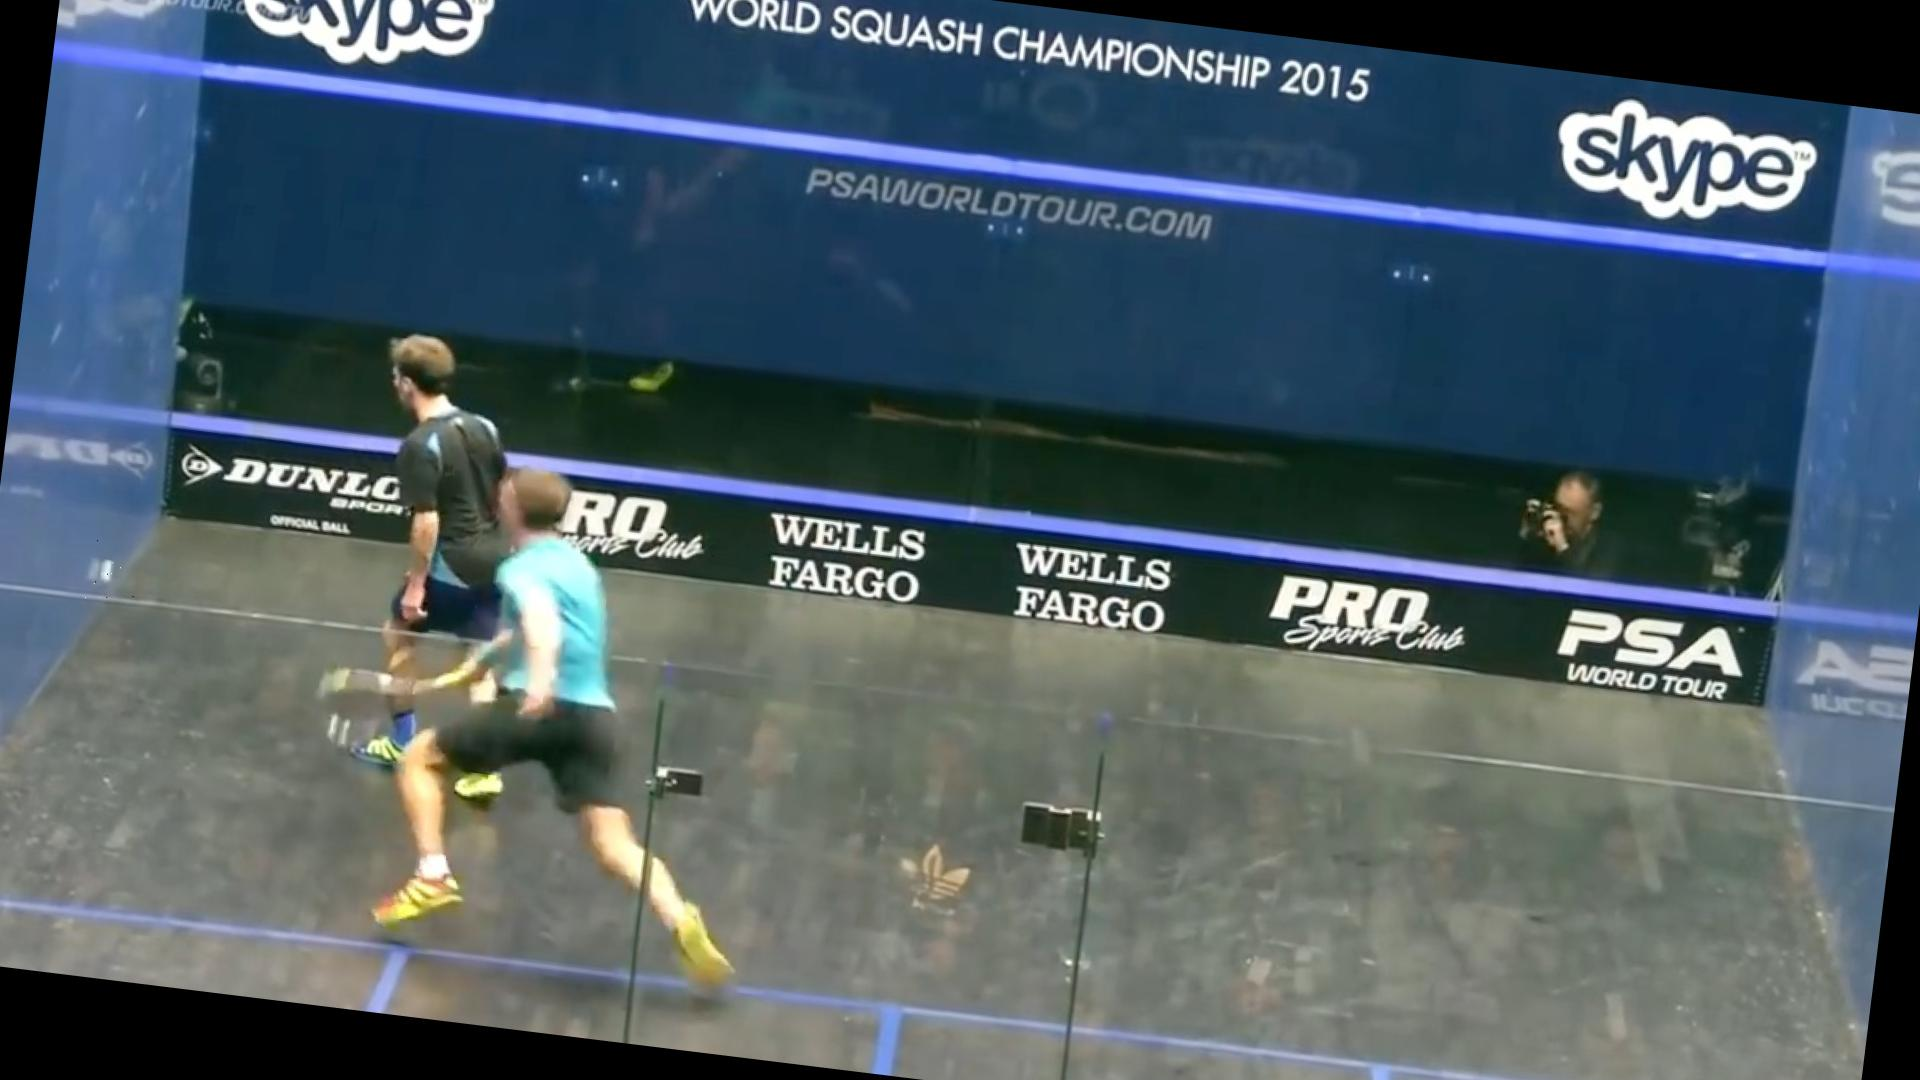Squash-Ball: (79, 538, 141, 611)
